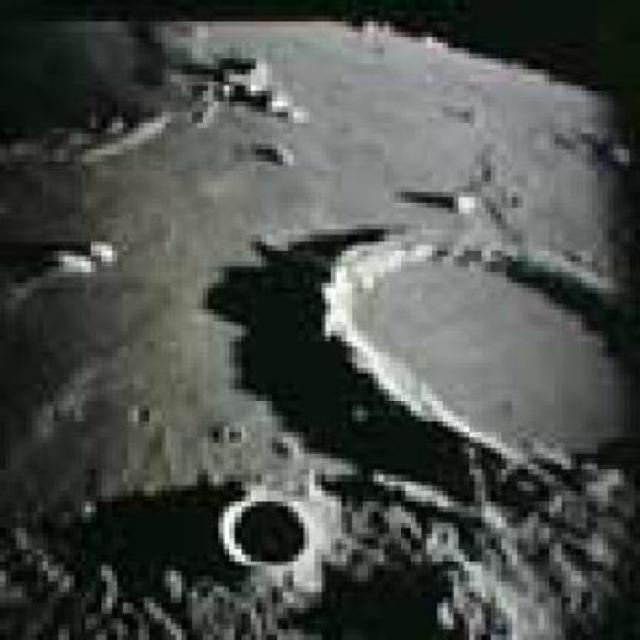crater: (333, 237, 639, 485), (222, 492, 312, 570)
